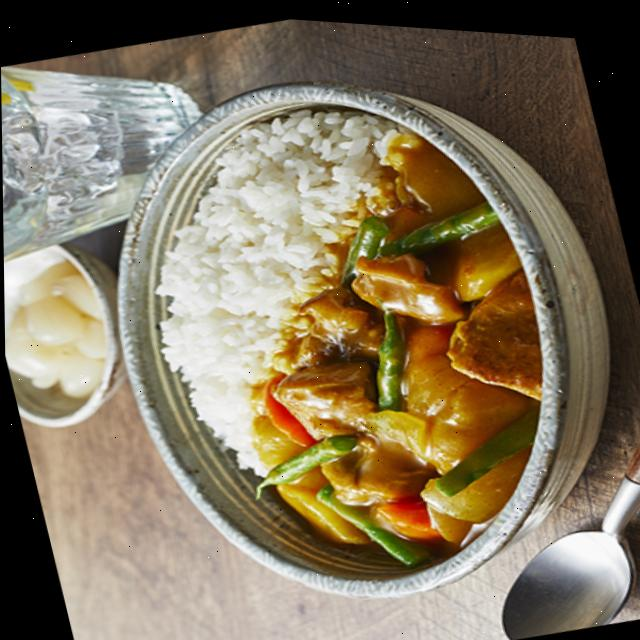Wet: (110, 53, 589, 613)
